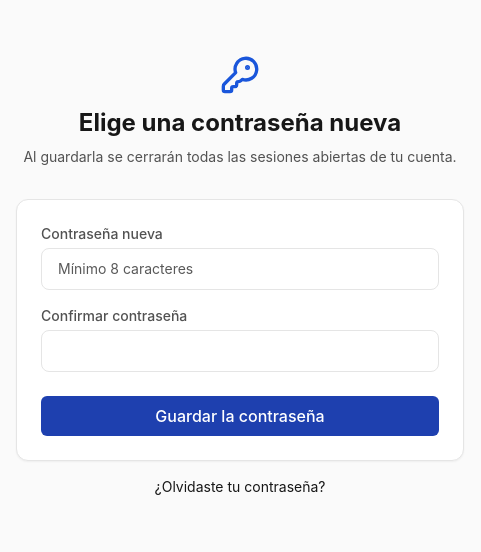
Elegir la contraseña nueva › un enlace caducado se explica, con cómo pedir otro
Type "Nueva12345!" into the password field labelled "Contraseña nueva" at (240, 269), box left=41, top=248, right=439, bottom=290
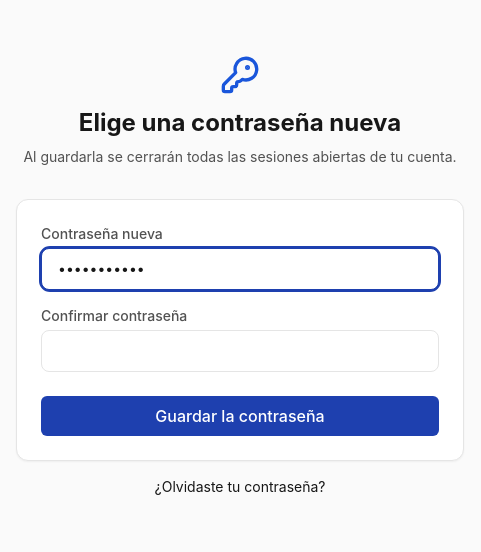
Type "Nueva12345!" into the password field labelled "Confirmar contraseña" at (240, 351), box left=41, top=330, right=439, bottom=372
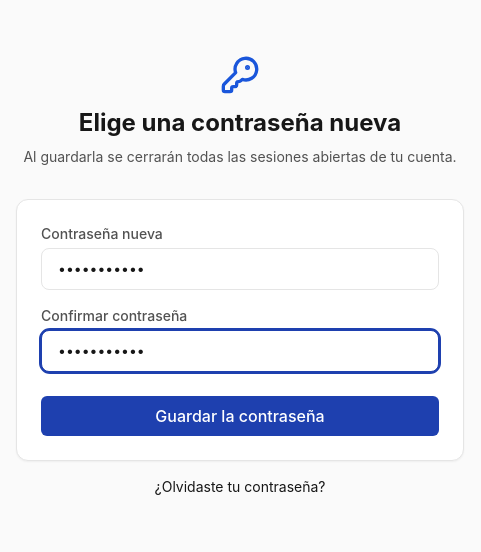
Click the button "Guardar la contraseña" at (240, 416), box left=41, top=396, right=439, bottom=436
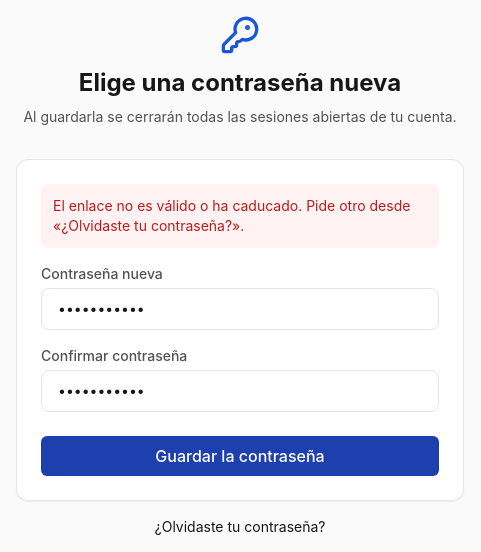
Expected: the message shows "El enlace no es válido o ha caducado. Pide otro desde «¿Olvidaste tu contraseña?».", left=53, top=197, right=410, bottom=234
